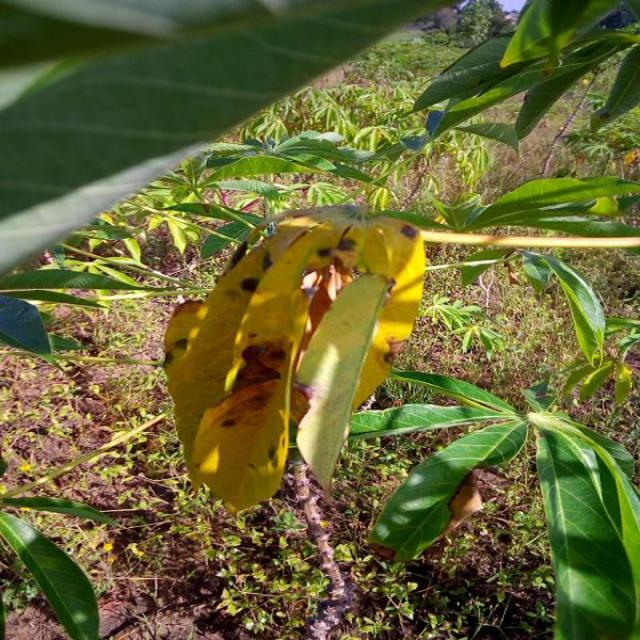cassava leaf: (162, 205, 426, 514), (530, 408, 638, 638), (293, 270, 391, 501)
